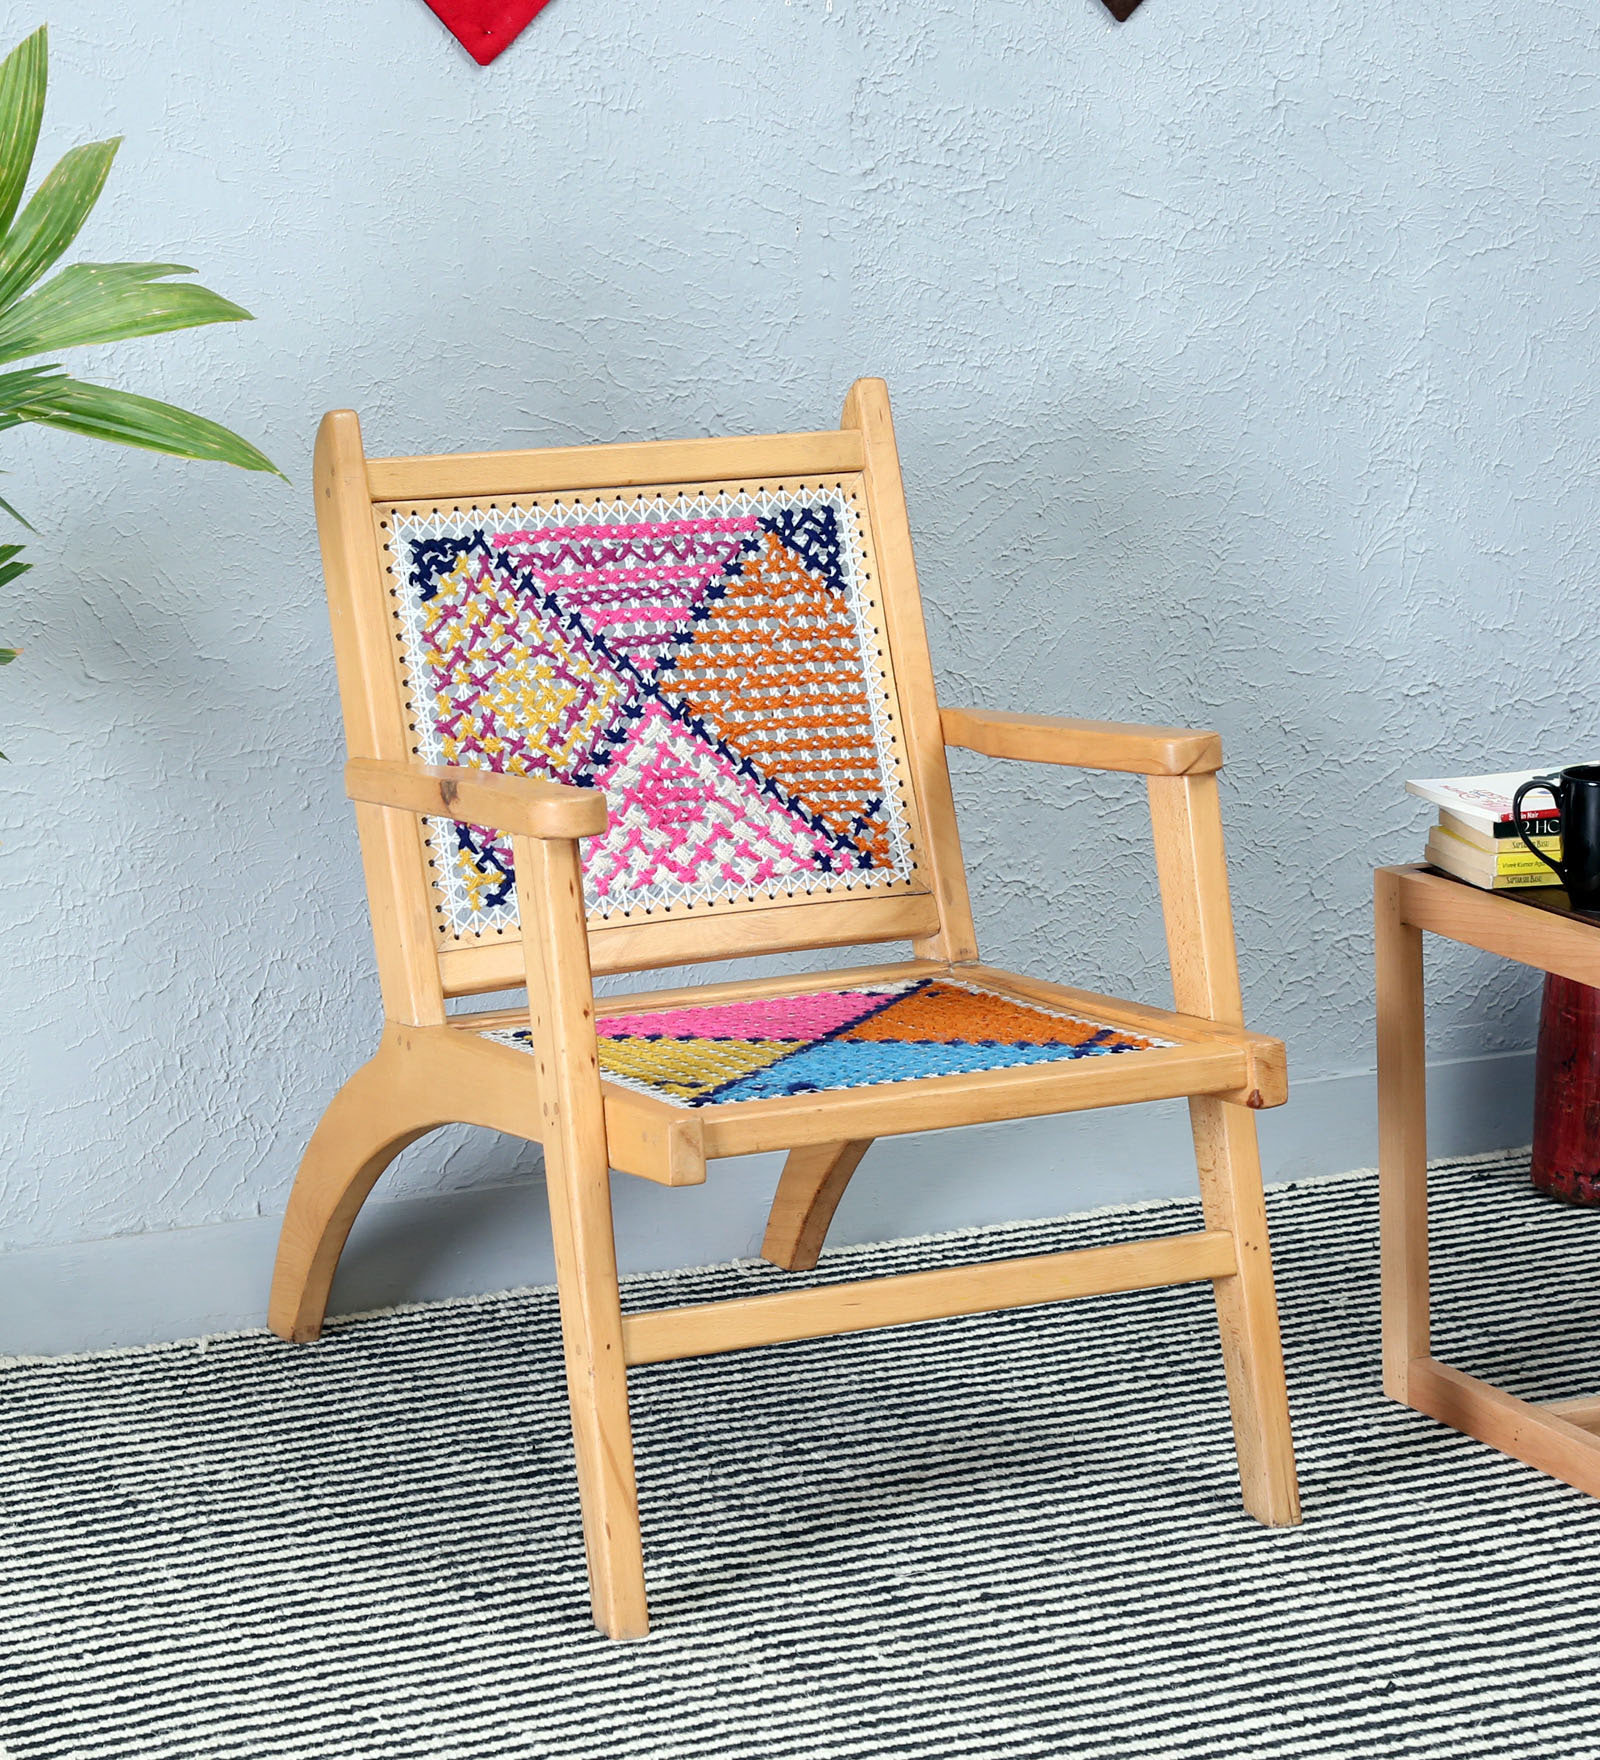Cara Arm Chair in in Multi- Color Finish by Bohemiana: (265, 388, 1372, 1617)
